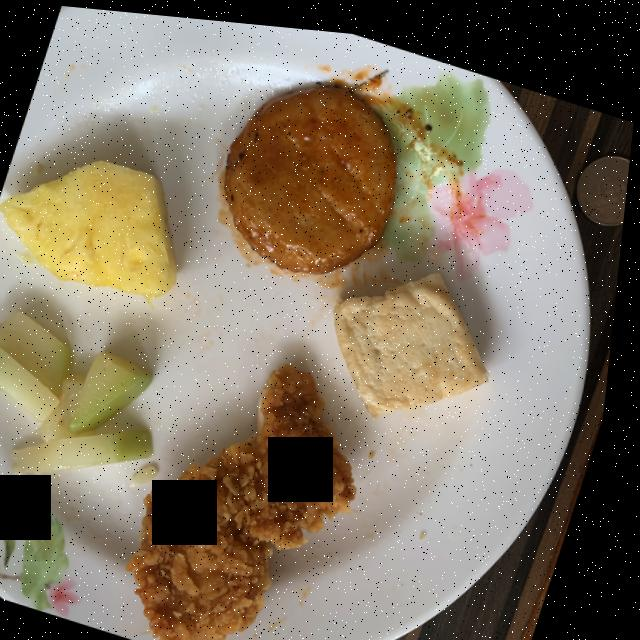coin: (579, 143, 632, 213)
creamy tofu -without sauce-: (339, 264, 495, 410)
fish cake: (227, 79, 399, 267)
fried chicken cutlet: (138, 357, 366, 640)
pineapple: (3, 158, 182, 296)
